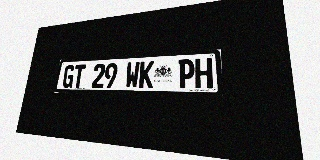2: (91, 63, 106, 88)
9: (103, 63, 118, 88)
G: (62, 65, 75, 88)
H: (195, 58, 213, 88)
K: (138, 61, 154, 88)
P: (178, 59, 194, 88)
T: (72, 64, 86, 88)
W: (125, 62, 140, 88)
